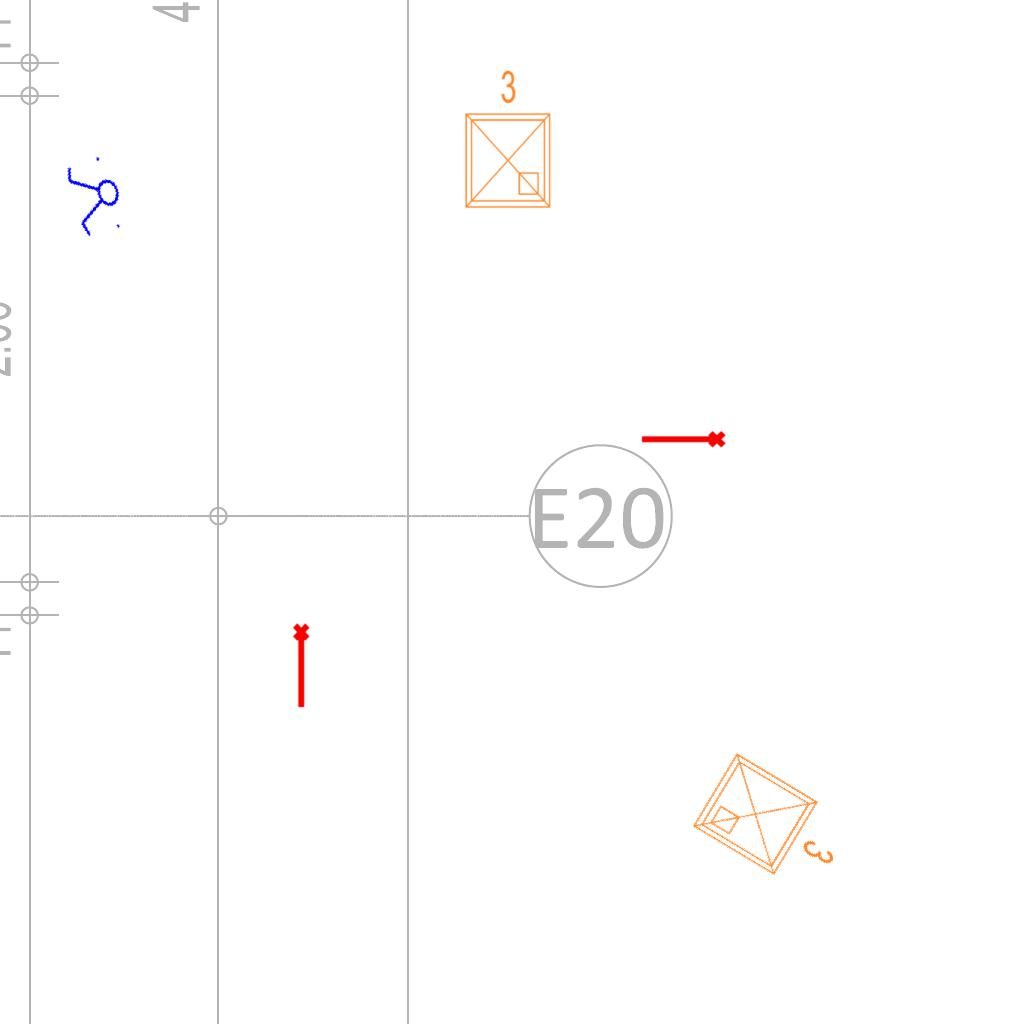ASR_Ansaugoeffnung: (291, 622, 314, 710), (639, 429, 727, 452)
Einbaudownlights_LED_Konferenzraeume: (682, 739, 866, 907), (454, 65, 558, 215)
Serienschalter: (60, 149, 132, 245)
